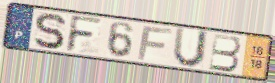6: (106, 21, 134, 59)
B: (208, 32, 243, 73)
F: (64, 14, 105, 54), (136, 25, 175, 62)
S: (32, 12, 67, 51)
U: (171, 26, 211, 70)
